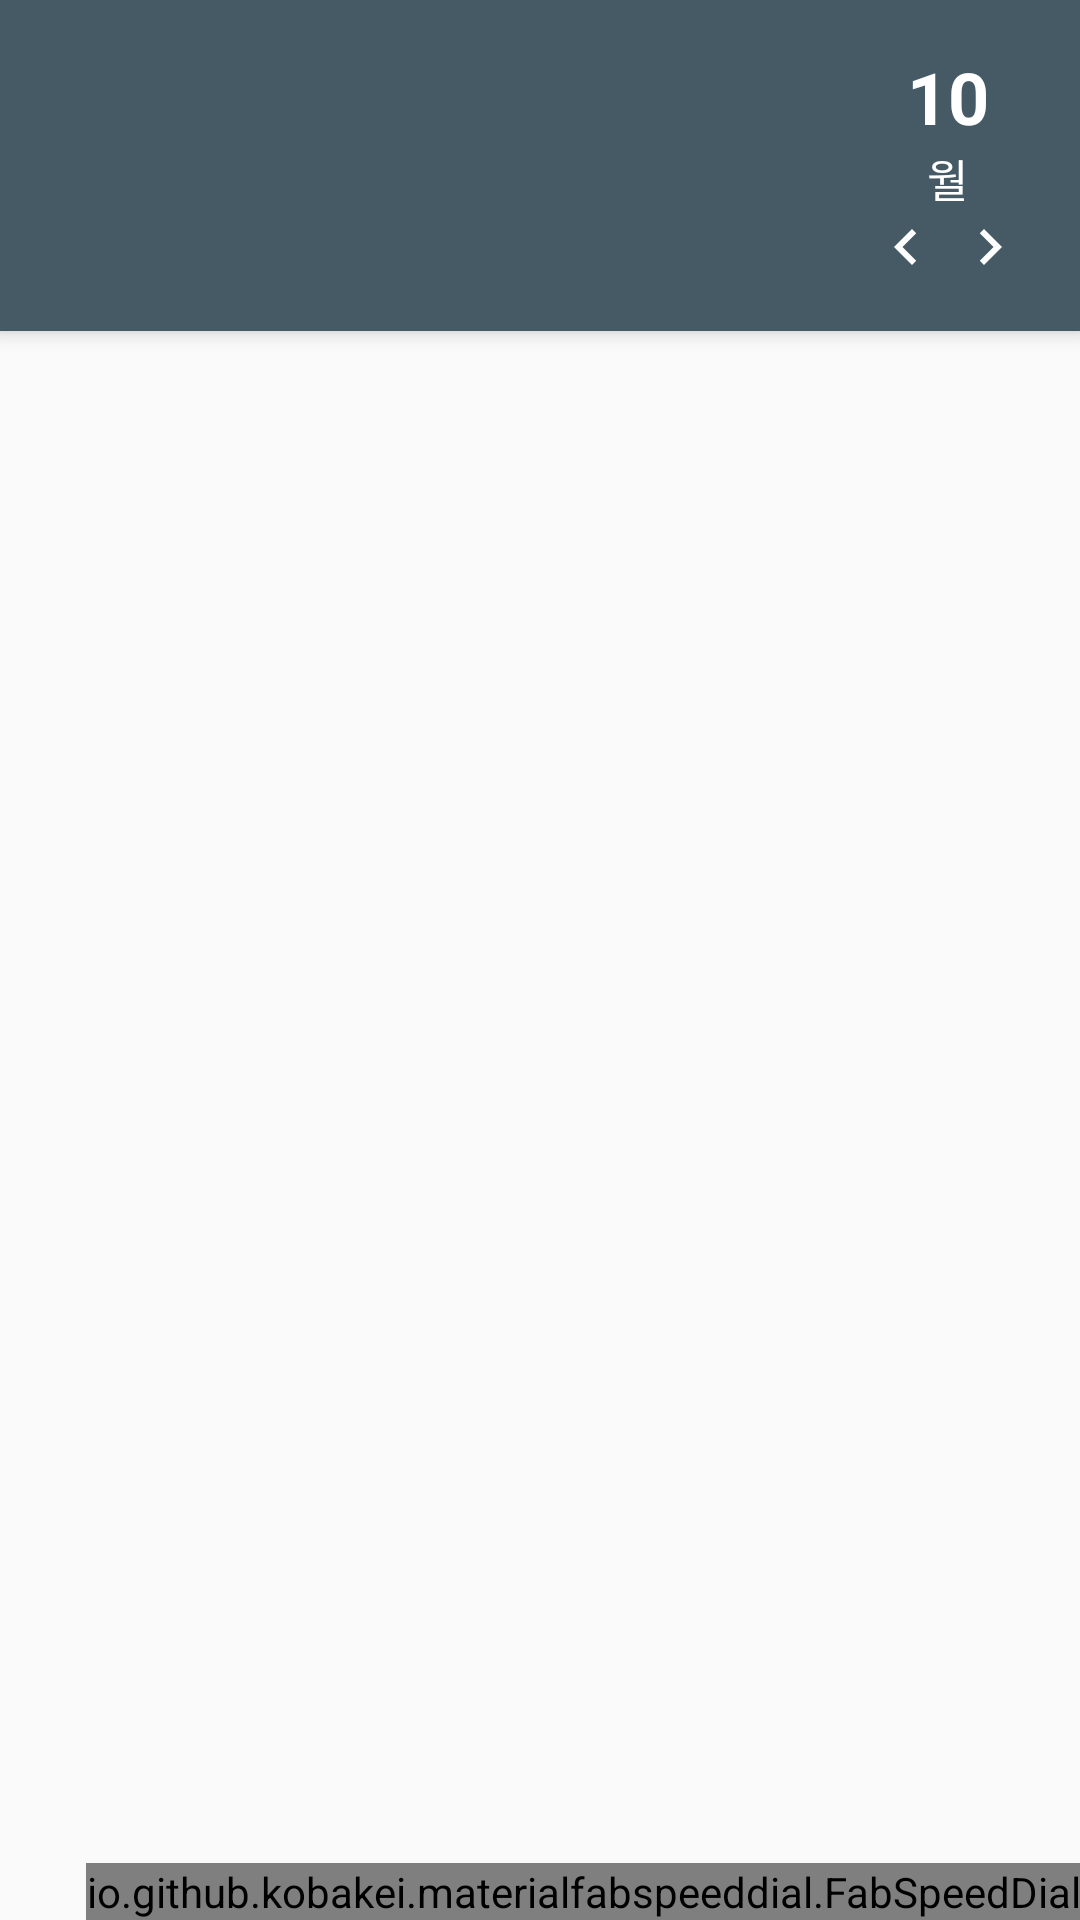

Named icons in this screenshot (1080 × 1920) and their bounding boxes, (x1, y1, x2, y2):
arrow next: (980, 229, 1002, 265)
arrow prev: (894, 229, 916, 265)
